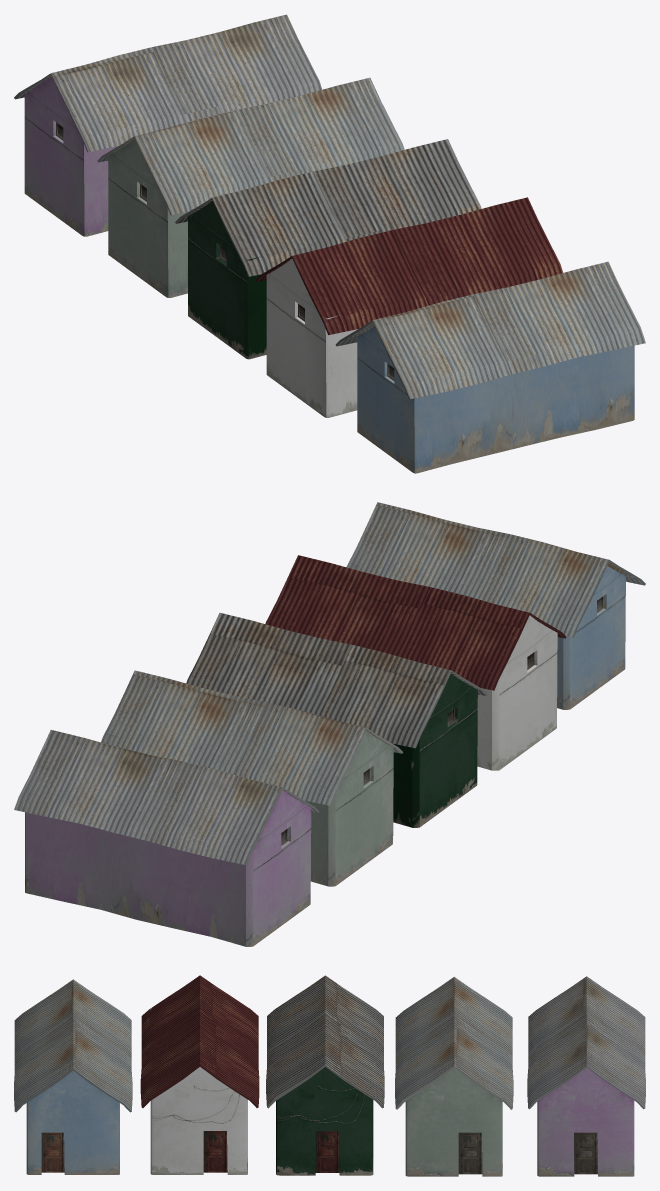
Rendered from barracks.glb.
The picture shows the model from 3 angles, top to bottom: view 1: azimuth 30°, elevation 25°; view 2: azimuth 150°, elevation 25°; view 3: azimuth 270°, elevation 25°; orthographic projection. The views are drawn at different scales.
Visible parts, largest first — view 1: unnamed (×5); view 2: unnamed (×5); view 3: unnamed (×5).
Boxes of the visible parts, left/top/right/bottom form: unnamed (×5): left=14, top=14, right=645, bottom=473; unnamed (×5): left=14, top=502, right=645, bottom=946; unnamed (×5): left=14, top=975, right=645, bottom=1176.
Bounding box in the file's own units: 9.02 × 5.11 × 26.03.
Materials: 2 (2 with a texture image).
